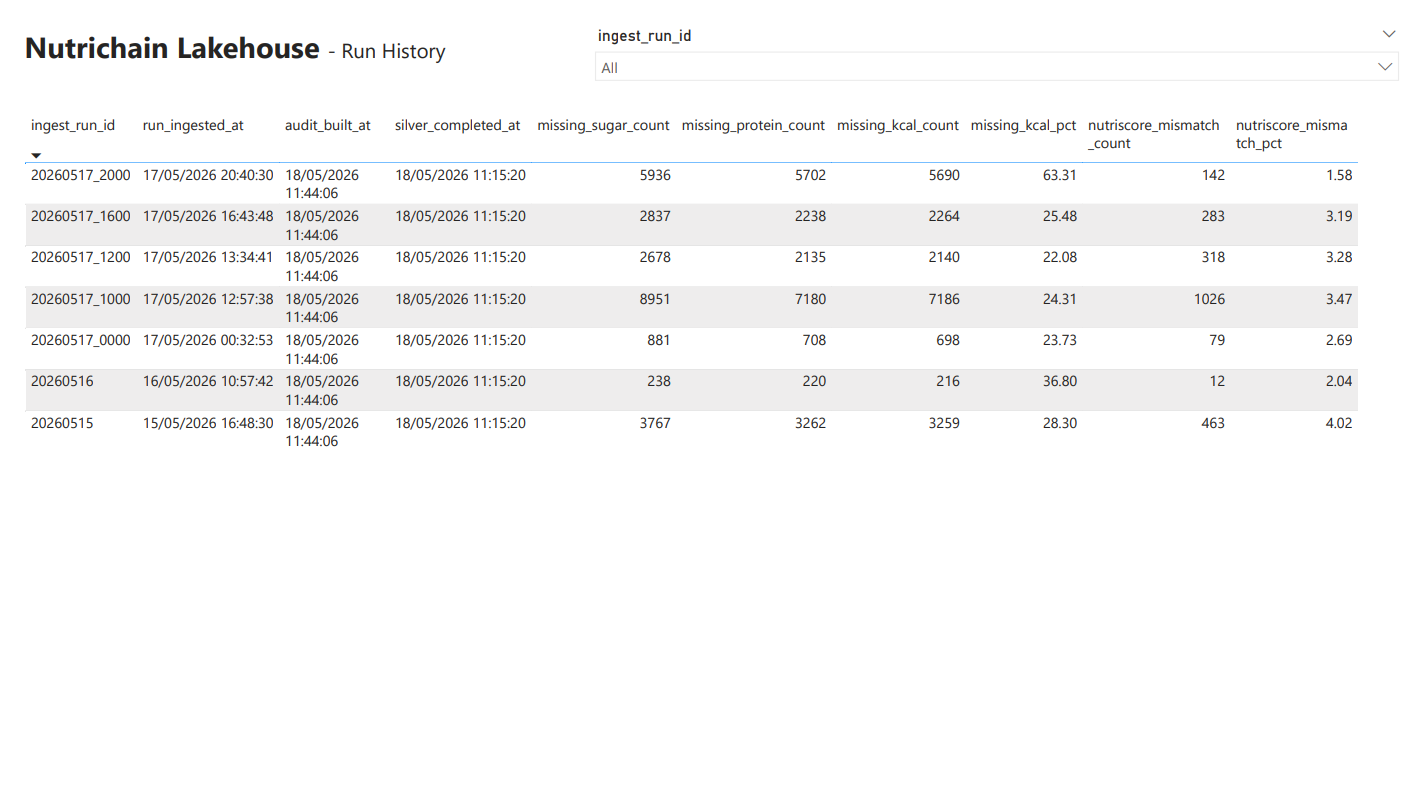

This screenshot's page, from the dashboard's own definition file:
{"tool":"powerbi","page":{"name":"Run History","canvas":[1280,720],"ordinal":3},"visuals":[{"type":"tableEx","fields":{"Values":["pipeline_audit.ingest_run_id","pipeline_audit.run_ingested_at","pipeline_audit.audit_built_at","pipeline_audit.silver_completed_at","pipeline_audit.missing_sugar_count","pipeline_audit.missing_protein_count","pipeline_audit.missing_kcal_count","pipeline_audit.missing_kcal_pct","pipeline_audit.nutriscore_mismatch_count","pipeline_audit.nutriscore_mismatch_pct"]},"box":[0,0,1280,656],"z":0}]}

Visuals, with their boxes in screenshot pixels (x1, y1, x2, y2), scaled from the page's 1280x720 canvas onto the 1426x803 screenshot:
tableEx - pipeline_audit.ingest_run_id x pipeline_audit.run_ingested_at: [0, 0, 1425, 732]
